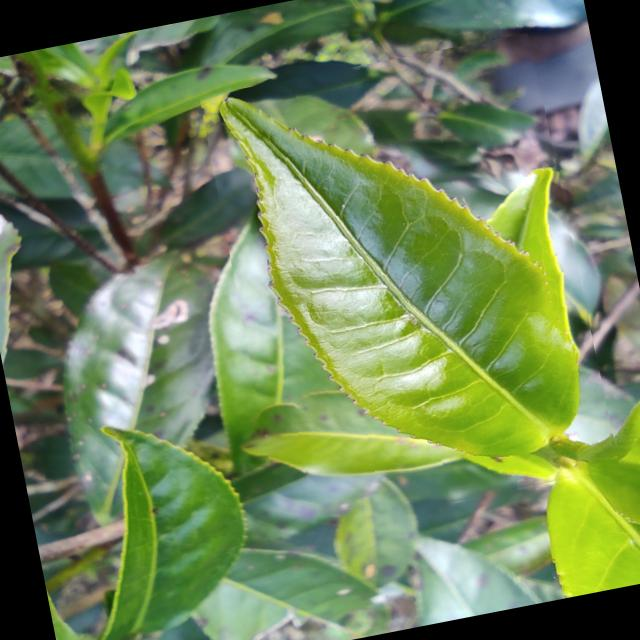Category B(2-4 days): (199, 31, 620, 536)
